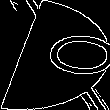O_W: (7, 28, 103, 82)
